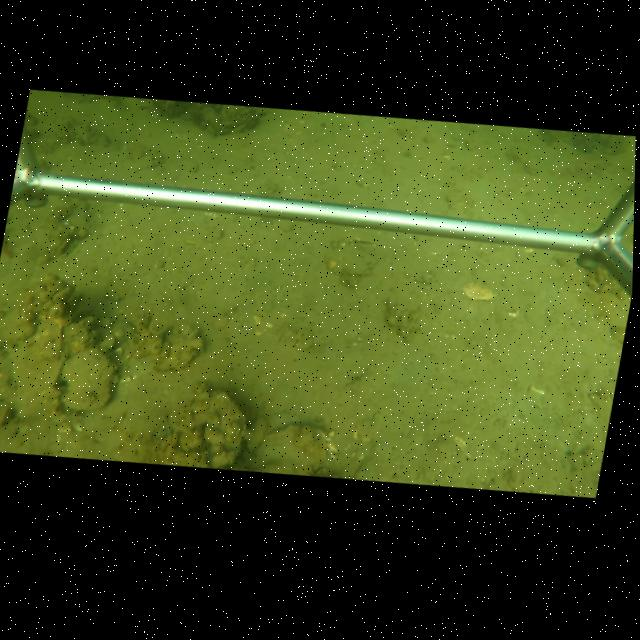Oyster-Closed: (208, 390, 248, 467)
Oyster-Indeterminate: (242, 424, 331, 475), (56, 348, 118, 413)
